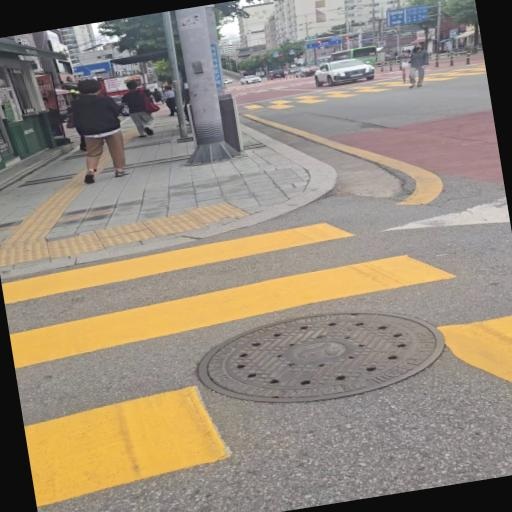yellow-crosswalk: (0, 183, 512, 512), (230, 56, 488, 122)
